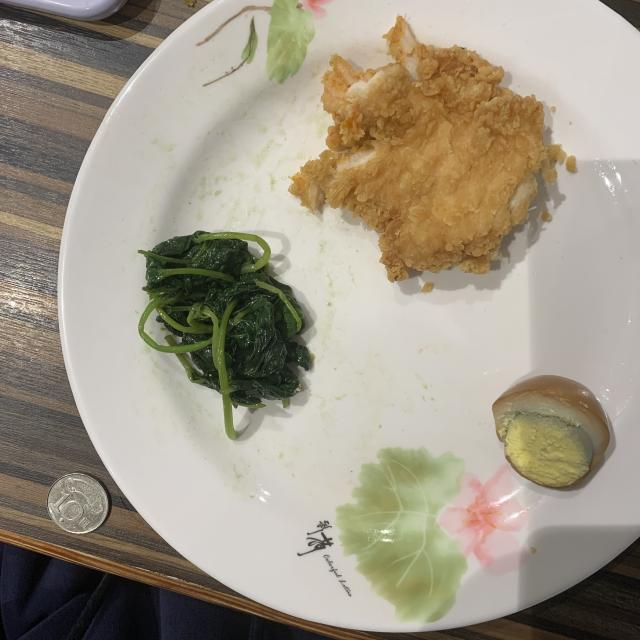coin: (48, 474, 109, 534)
fried chicken cutlet: (289, 16, 566, 281)
soy egg: (492, 375, 610, 489)
sweet potato leaves: (139, 231, 311, 439)
